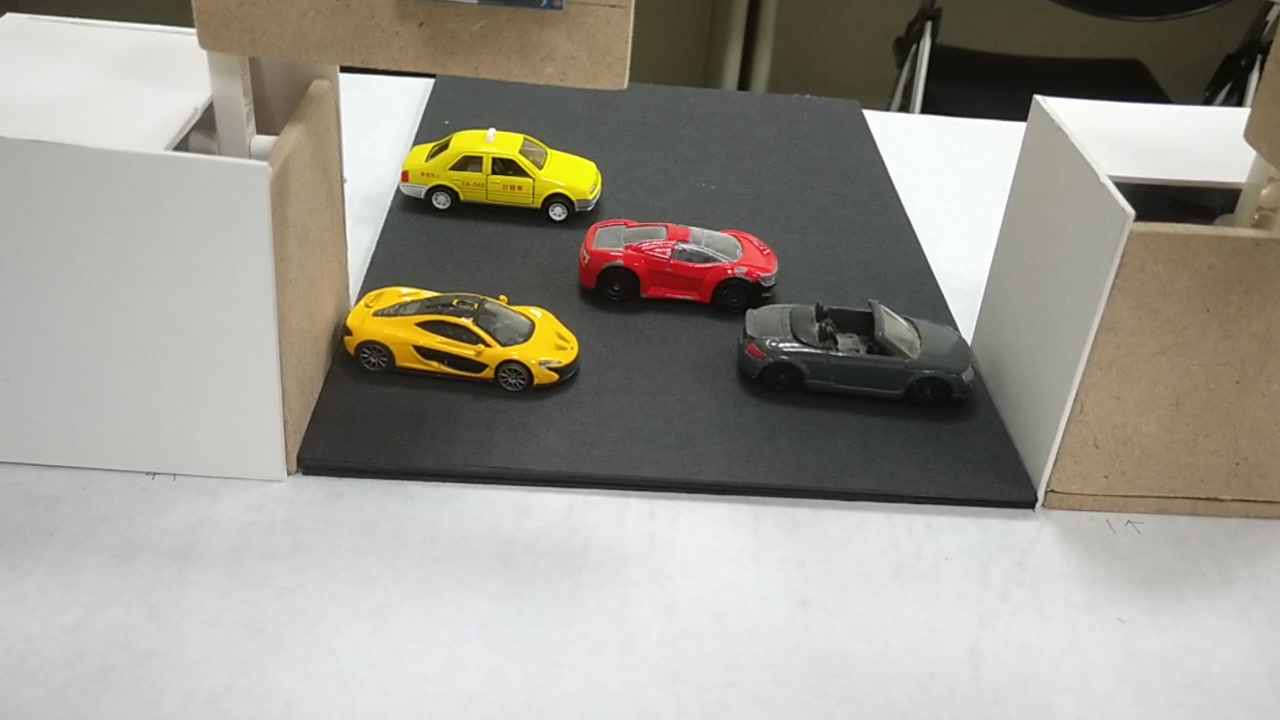car: (739, 300, 975, 413), (344, 285, 579, 392), (582, 218, 779, 307), (402, 140, 602, 220)
